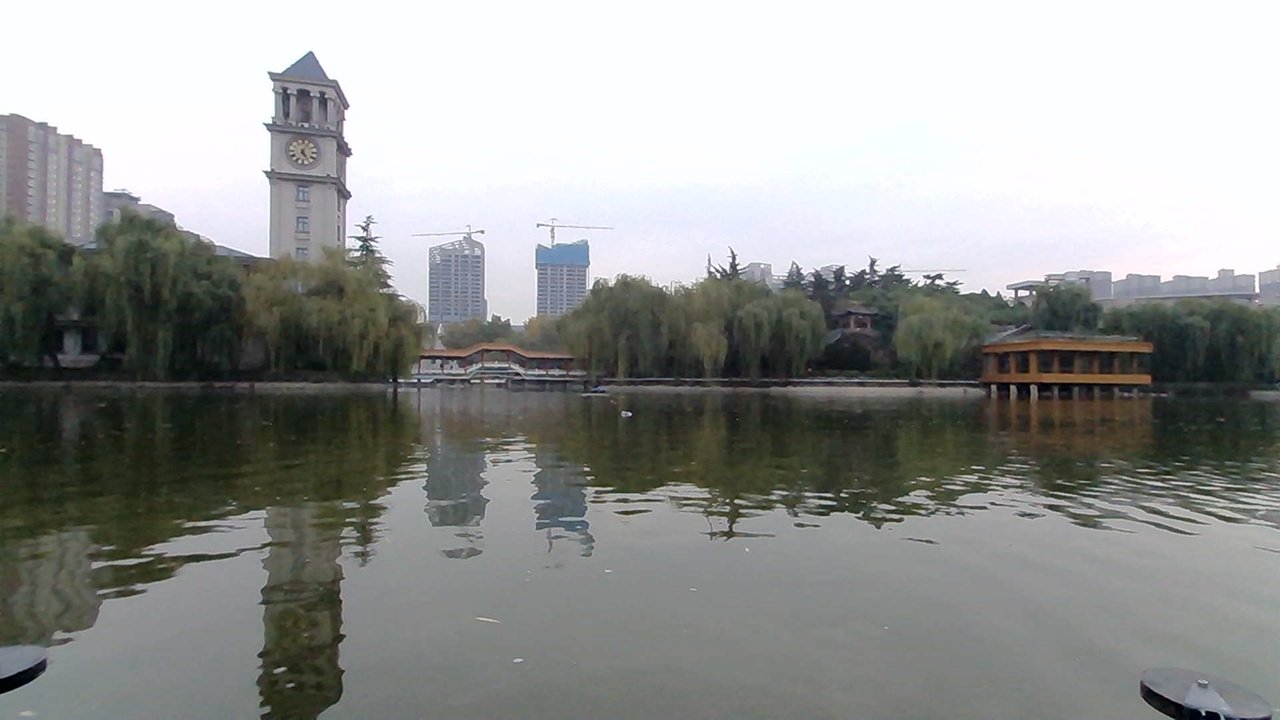bottle: (604, 402, 650, 426)
